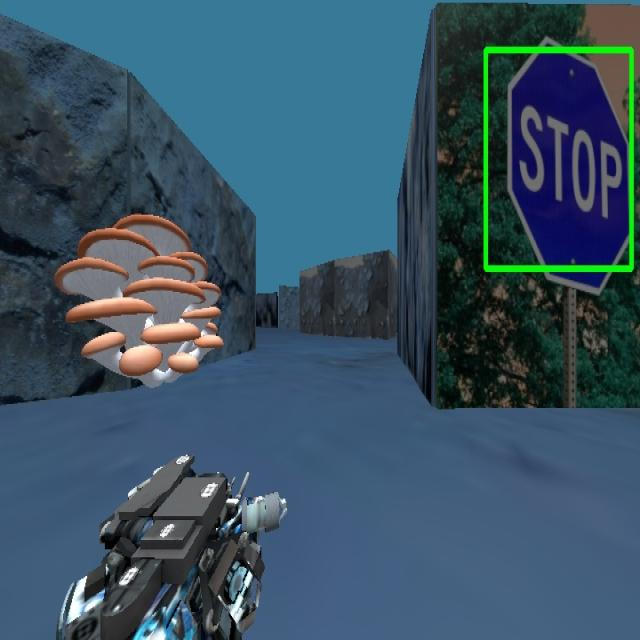Mushroom: (52, 212, 222, 388)
Stop_Sign: (482, 43, 634, 281)
